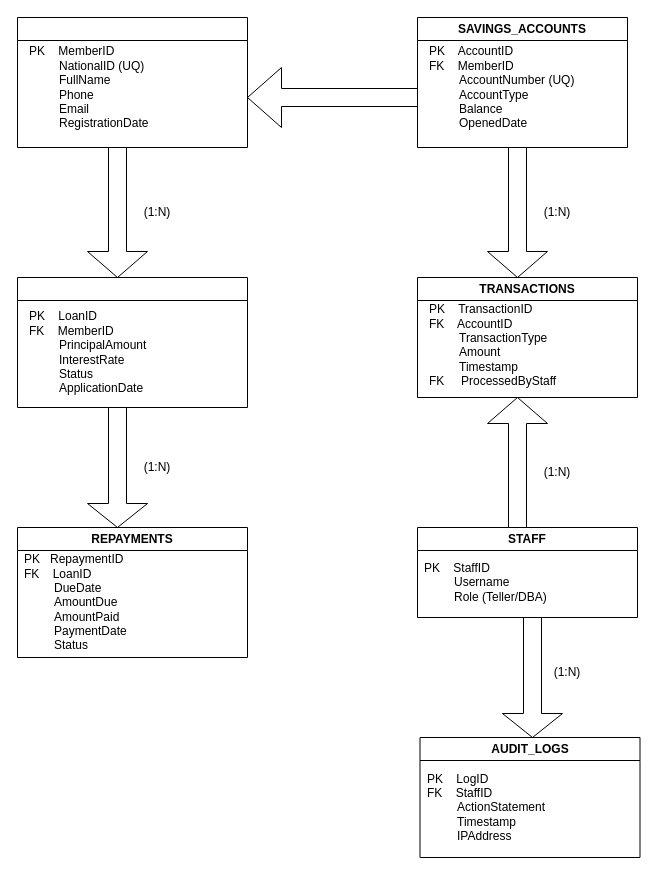
The diagram is 658 pixels wide and 875 high, and some of its shapes have lost their labels. The shapes that lost their labels are listed below. From the top down, each one's box as (x1, y1, x2, y2) in pixels, then its label:
(16, 16, 248, 148): MEMBERS
(16, 276, 248, 408): LOANS
